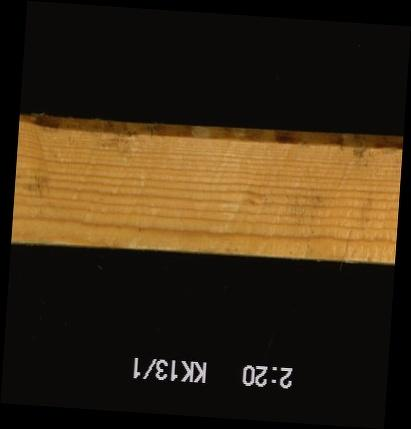wave: (20, 119, 402, 146)
